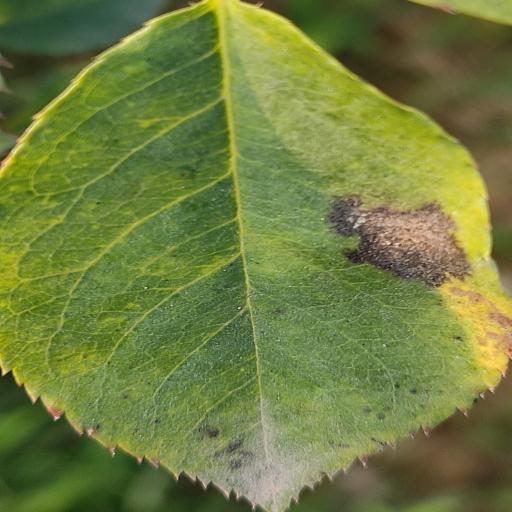black_spot: (0, 0, 510, 512)
